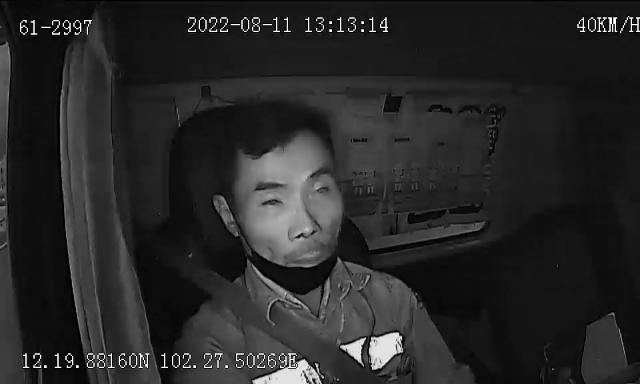SafeDriving: (418, 96, 461, 122), (304, 174, 336, 203), (254, 187, 290, 212)
Seatbelt: (156, 232, 374, 384)
